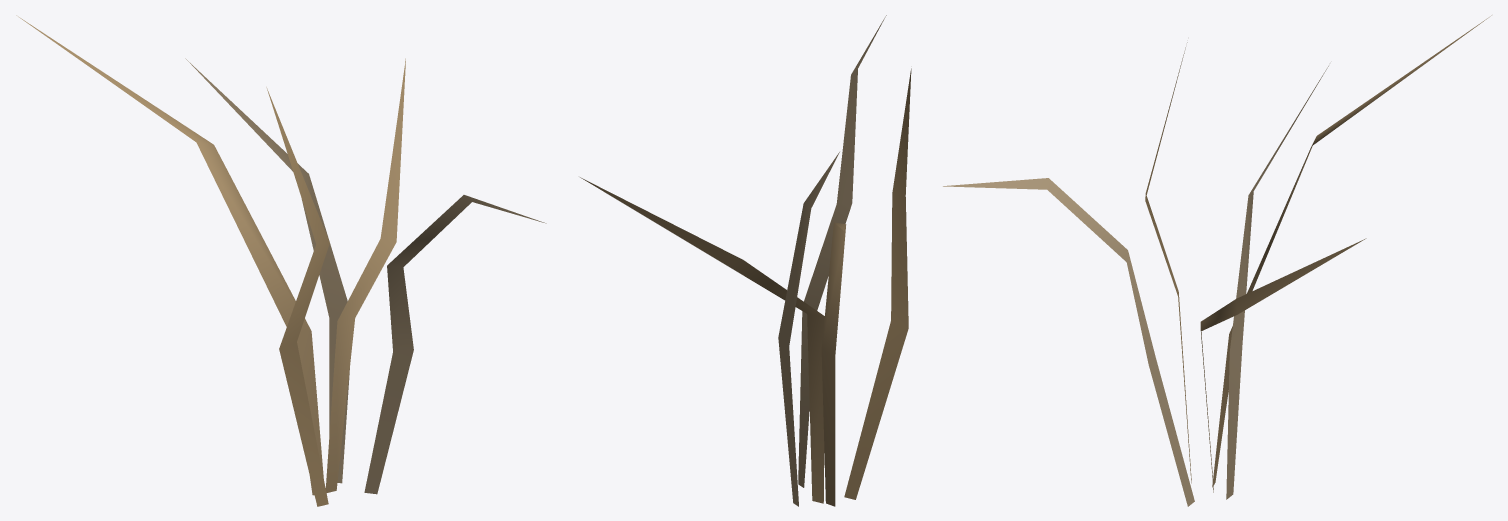
The model's file is Grass_f_TwoS_01.fbx.
3 views of the same model, side by side, from view 1: azimuth 30°, elevation 25°; view 2: azimuth 150°, elevation 25°; view 3: azimuth 270°, elevation 25° (orthographic). The views are drawn at different scales.
Visible parts, largest first — view 1: Grass_f_TwoS_01; view 2: Grass_f_TwoS_01; view 3: Grass_f_TwoS_01.
Boxes of the visible parts, box(x1,y1,x2,y2) form: Grass_f_TwoS_01: box(16, 15, 546, 506); Grass_f_TwoS_01: box(580, 15, 911, 506); Grass_f_TwoS_01: box(943, 15, 1491, 506).
Size of the model in its own units: 33.12 by 42.25 by 50.71.
